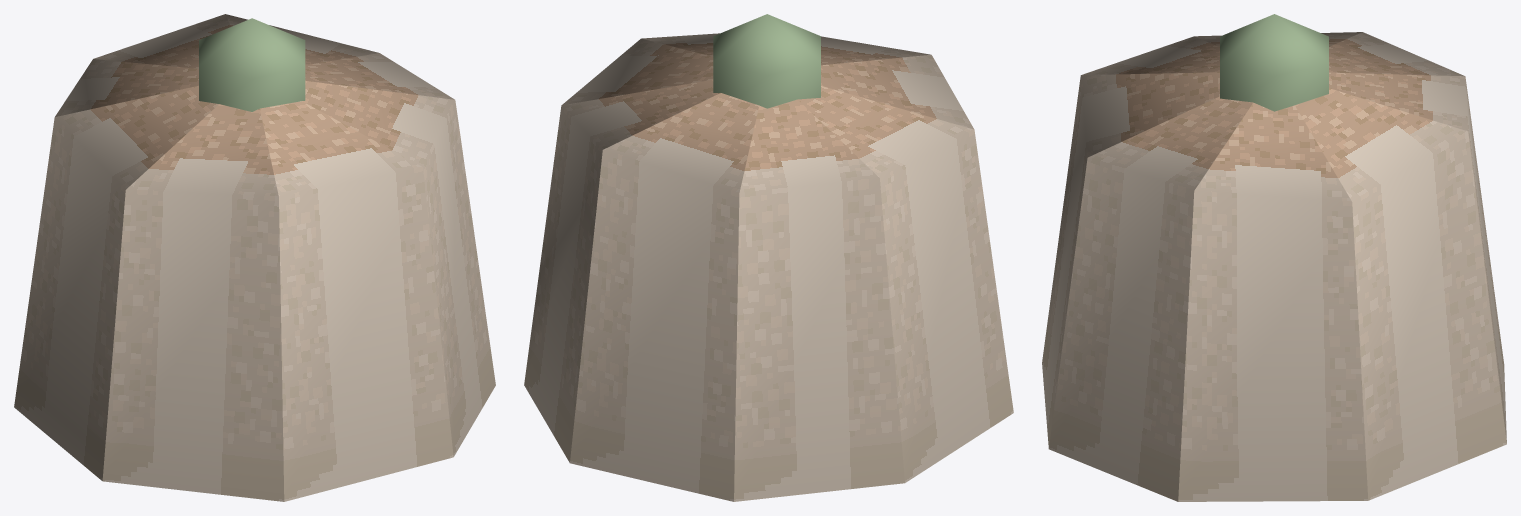
File: 0532_Shumai_Dumpling.glb
3 renders of one model, left to right at view 1: azimuth 30°, elevation 25°; view 2: azimuth 150°, elevation 25°; view 3: azimuth 270°, elevation 25°, orthographic. The views are drawn at different scales.
Parts seen in each view (by area): view 1: part_0; view 2: part_0; view 3: part_0.
Boxes of the visible parts, box(x1,y1,x2,y2) form: part_0: box(14, 14, 495, 501); part_0: box(524, 14, 1013, 501); part_0: box(1042, 14, 1506, 501).
Size of the model in its own units: 0.0532 by 0.0492 by 0.0532.
Materials: 1 (1 with a texture image).
